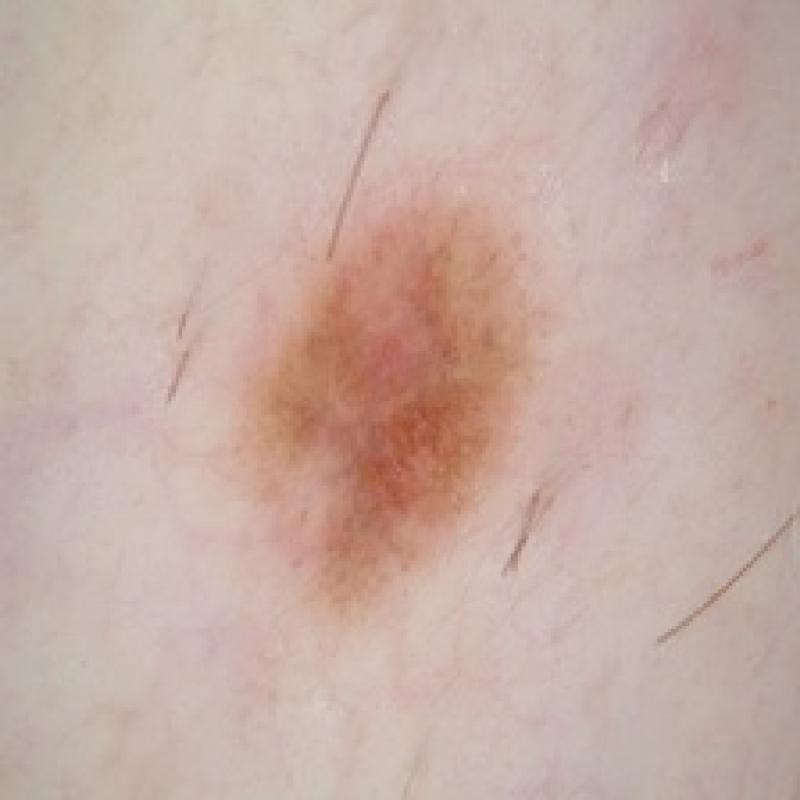malignant: (179, 166, 602, 623)
